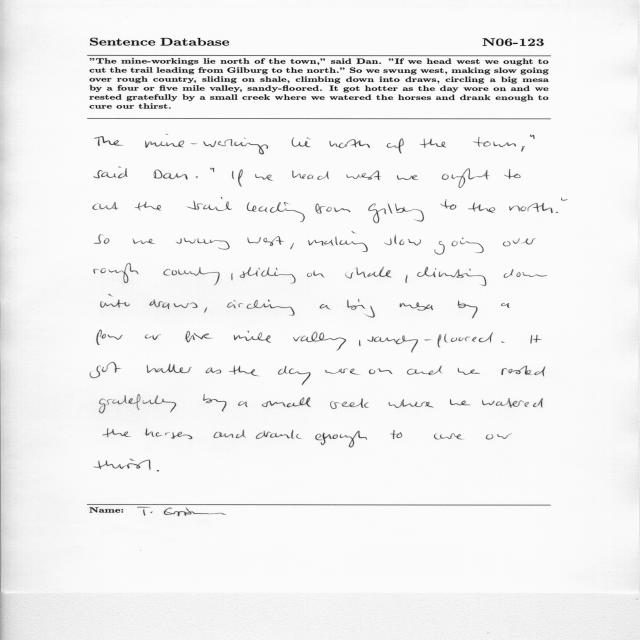word: (367, 333, 493, 353), (100, 394, 177, 413), (418, 267, 487, 286), (308, 231, 368, 252), (191, 138, 268, 154), (247, 202, 305, 222), (368, 204, 424, 224), (227, 300, 295, 316), (163, 267, 220, 285), (293, 332, 346, 351), (442, 168, 490, 188), (94, 263, 139, 283), (240, 267, 296, 283), (315, 431, 367, 448), (434, 238, 484, 255), (187, 197, 232, 211), (278, 366, 311, 385), (94, 459, 150, 470), (482, 398, 543, 408), (176, 238, 230, 249), (345, 267, 392, 279), (145, 134, 184, 148), (262, 397, 311, 408), (347, 299, 375, 317), (90, 362, 121, 378), (502, 366, 546, 377), (150, 300, 198, 310), (146, 429, 193, 439), (234, 331, 271, 343), (509, 203, 553, 213), (330, 398, 369, 409), (474, 137, 516, 147), (203, 394, 226, 412), (384, 235, 421, 246), (101, 294, 130, 308), (147, 364, 192, 373), (389, 399, 434, 408), (256, 430, 301, 439), (503, 269, 547, 278), (97, 330, 123, 345), (316, 203, 351, 214), (94, 167, 128, 178), (248, 236, 285, 246), (329, 139, 370, 148), (458, 300, 478, 318), (346, 170, 381, 180), (154, 170, 188, 180), (292, 171, 329, 180), (229, 366, 258, 377), (407, 366, 442, 375), (468, 202, 495, 213), (400, 302, 433, 311), (185, 331, 212, 342), (94, 136, 123, 146), (387, 138, 404, 154), (213, 430, 246, 438), (503, 238, 535, 246), (103, 429, 131, 438), (420, 139, 446, 148), (135, 202, 161, 211), (325, 369, 359, 375), (434, 433, 463, 440), (93, 202, 118, 210), (232, 169, 243, 187), (292, 137, 311, 147), (441, 199, 457, 210), (504, 169, 521, 179), (486, 434, 512, 440), (458, 368, 480, 375), (95, 234, 110, 244), (369, 368, 393, 374), (133, 238, 155, 244), (255, 174, 273, 181), (450, 399, 470, 405), (307, 271, 324, 278), (530, 335, 542, 344), (390, 430, 402, 439), (397, 175, 418, 180), (145, 334, 161, 340), (206, 368, 221, 374), (320, 304, 331, 310), (238, 401, 248, 407), (501, 303, 510, 308), (530, 134, 535, 139), (521, 146, 525, 152), (561, 197, 567, 201), (290, 243, 294, 249), (405, 275, 408, 283), (204, 307, 207, 313), (210, 168, 214, 172), (231, 274, 233, 280), (359, 340, 361, 346), (502, 341, 505, 343), (196, 176, 198, 178), (157, 470, 159, 472), (556, 212, 558, 213)
